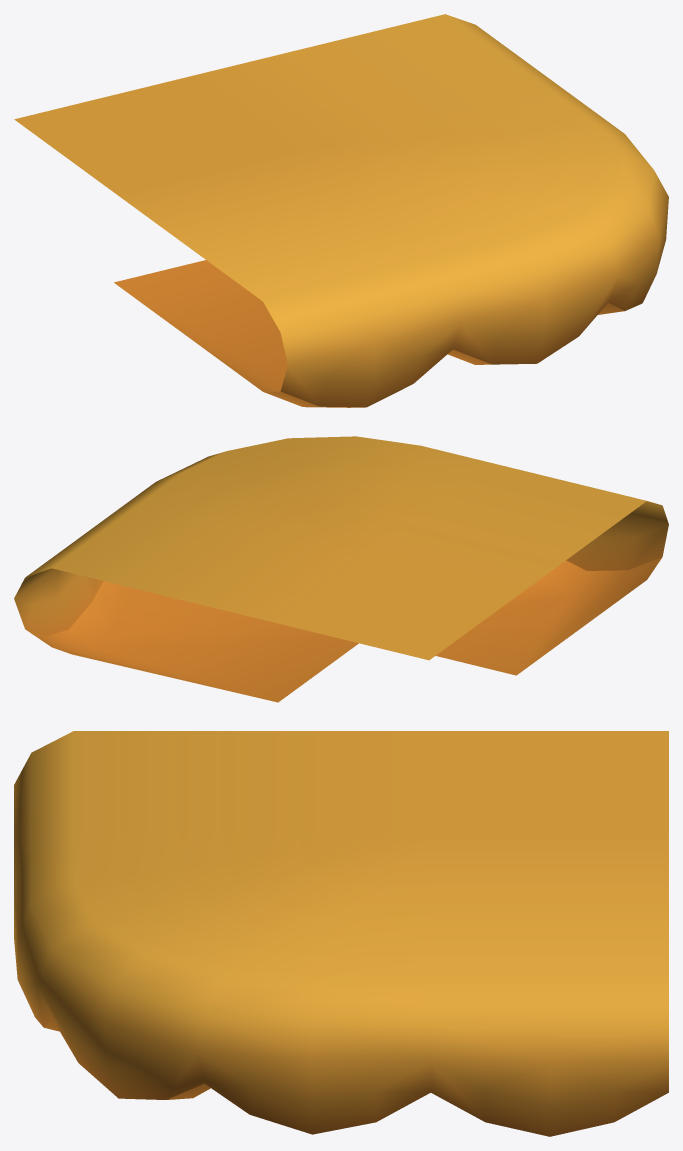
Rendered from Hill_Top_I_OuterCorner_Color5.fbx.
3 views of the same model, one above another, from view 1: azimuth 30°, elevation 25°; view 2: azimuth 150°, elevation 25°; view 3: azimuth 270°, elevation 25° (orthographic). The views are drawn at different scales.
Visible parts, largest first — view 1: Hill_Top_I_OuterCorner_Color5; view 2: Hill_Top_I_OuterCorner_Color5; view 3: Hill_Top_I_OuterCorner_Color5.
Boxes of the visible parts, x1,y1,x2,y2 form: Hill_Top_I_OuterCorner_Color5: (14,14,668,407); Hill_Top_I_OuterCorner_Color5: (14,436,668,702); Hill_Top_I_OuterCorner_Color5: (14,731,668,1136).
Bounding box in the file's own units: 2.75 × 0.7052 × 2.75.
